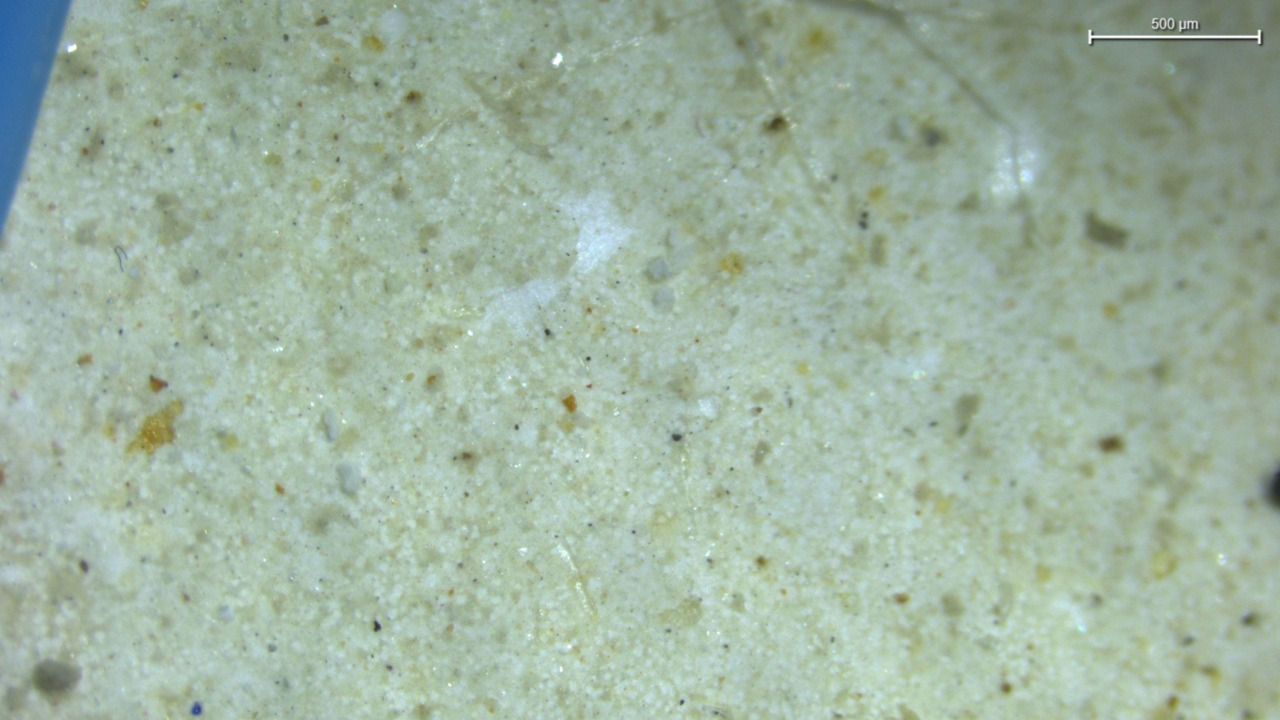microplastic_fragment: (336, 462, 363, 494), (321, 409, 340, 442), (646, 257, 669, 281), (652, 287, 674, 312)
